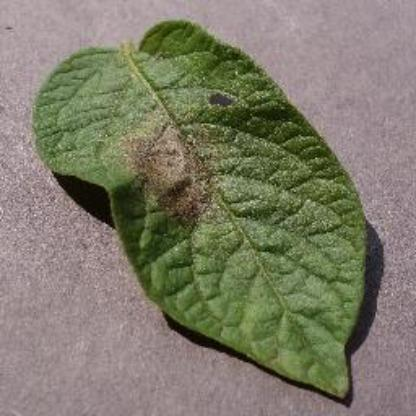Late-Blight: (29, 37, 376, 401)
